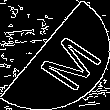M_NW: (16, 21, 94, 89)
